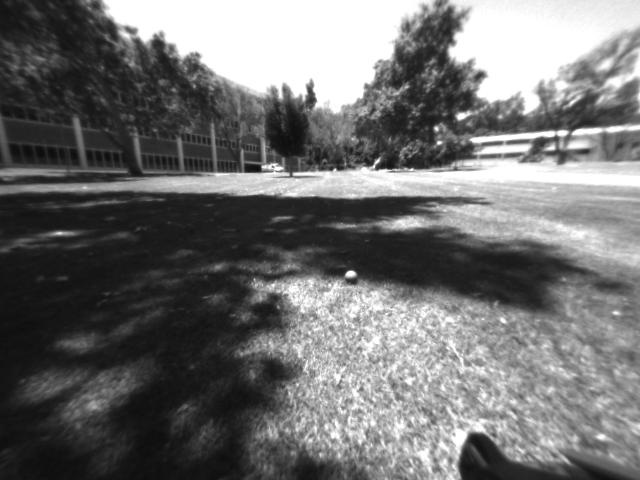dogtoy: (342, 265, 361, 286)
